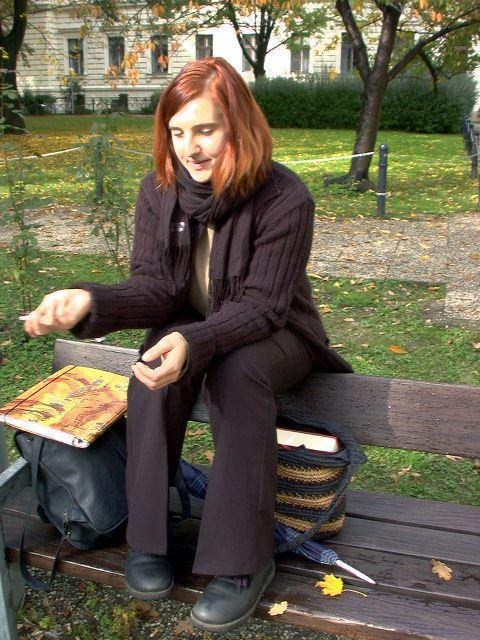Person: (20, 54, 321, 637)
